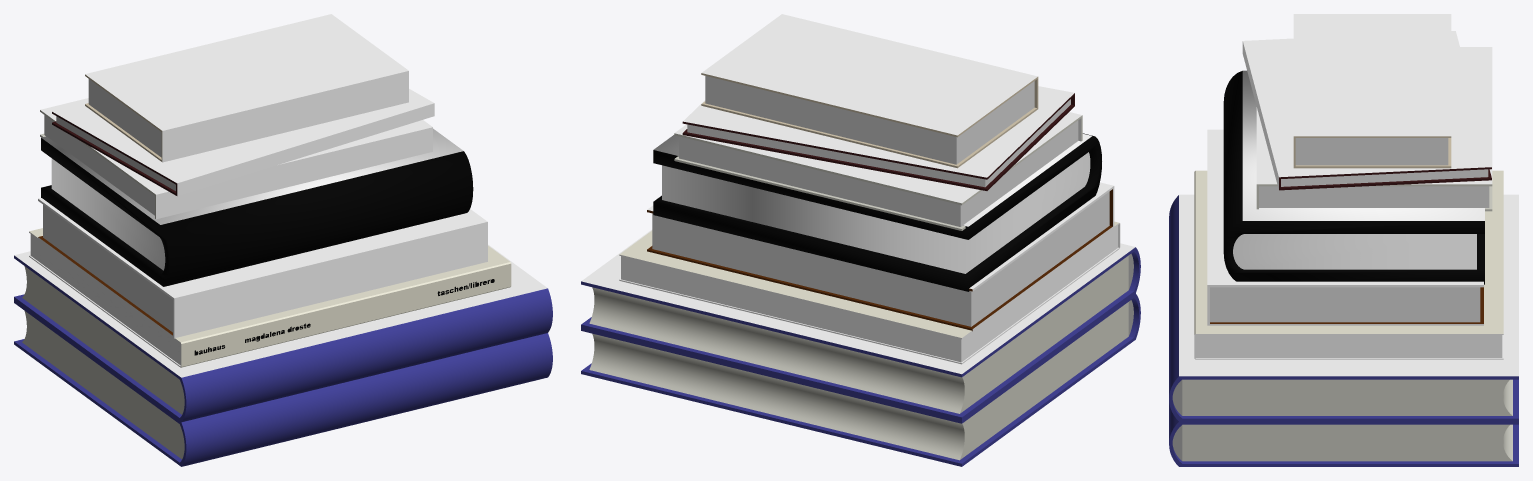
Rendered from book3d-model.fbx.
3 renders of one model, left to right at view 1: azimuth 30°, elevation 25°; view 2: azimuth 150°, elevation 25°; view 3: azimuth 270°, elevation 25°, orthographic. The views are drawn at different scales.
Visible parts, largest first — view 1: Algebra 2 Book and a Pen_001, book marihuana_001, Component#194_001, Component#187_001, BAUHAUS Book_001, Component#191_001, Component#190_001, Component#186_001, Component#189_001, Component#193_001, Component#192_001; view 2: Algebra 2 Book and a Pen_001, book marihuana_001, Component#194_001, BAUHAUS Book_001, Component#186_001, Component#193_001, Component#189_001, Component#191_001, Component#190_001, Component#187_001, Component#192_001; view 3: Algebra 2 Book and a Pen_001, book marihuana_001, Component#194_001, BAUHAUS Book_001, Component#191_001, Component#186_001, Component#187_001, Component#189_001, Component#193_001, Component#190_001, Component#192_001.
Part boxes in pixels (x1,y1,x2,y2): Algebra 2 Book and a Pen_001: [14, 244, 552, 466]; book marihuana_001: [41, 128, 473, 286]; Component#194_001: [85, 14, 408, 162]; Component#187_001: [38, 198, 487, 338]; BAUHAUS Book_001: [29, 228, 511, 367]; Component#191_001: [52, 89, 434, 196]; Component#190_001: [40, 98, 432, 219]; Component#186_001: [43, 205, 172, 332]; Component#189_001: [44, 115, 154, 215]; Component#193_001: [88, 79, 161, 157]; Component#192_001: [56, 116, 175, 190]; Algebra 2 Book and a Pen_001: [581, 229, 1140, 466]; book marihuana_001: [653, 133, 1101, 291]; Component#194_001: [701, 14, 1038, 168]; BAUHAUS Book_001: [619, 221, 1120, 364]; Component#186_001: [652, 191, 1109, 326]; Component#193_001: [705, 76, 1034, 164]; Component#189_001: [679, 120, 1078, 226]; Component#191_001: [682, 86, 1074, 190]; Component#190_001: [674, 112, 1082, 230]; Component#187_001: [647, 182, 1114, 331]; Component#192_001: [687, 99, 1070, 187]; Algebra 2 Book and a Pen_001: [1169, 194, 1518, 466]; book marihuana_001: [1223, 70, 1484, 284]; Component#194_001: [1293, 14, 1451, 168]; BAUHAUS Book_001: [1194, 170, 1503, 359]; Component#191_001: [1242, 31, 1491, 190]; Component#186_001: [1210, 287, 1480, 322]; Component#187_001: [1207, 129, 1483, 325]; Component#189_001: [1259, 186, 1489, 207]; Component#193_001: [1295, 138, 1448, 165]; Component#190_001: [1256, 47, 1492, 211]; Component#192_001: [1281, 169, 1488, 186].
Size of the model in its own units: 333 by 248 by 271.
